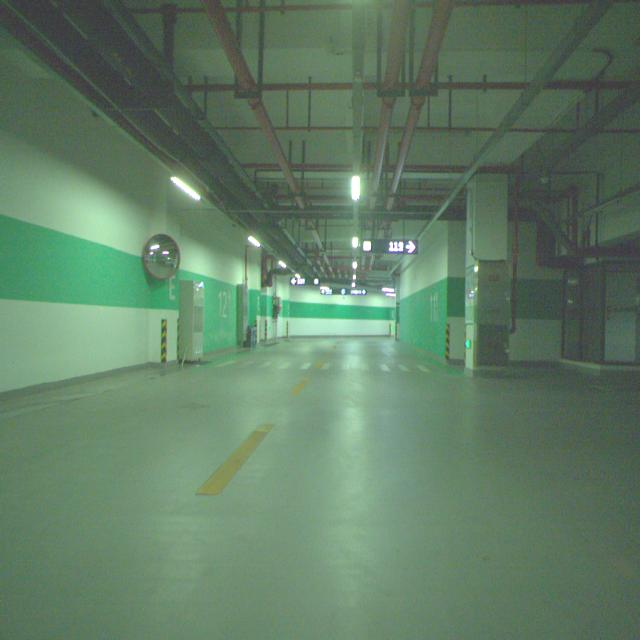pillar: (464, 173, 509, 370)
wall: (146, 270, 181, 374)
